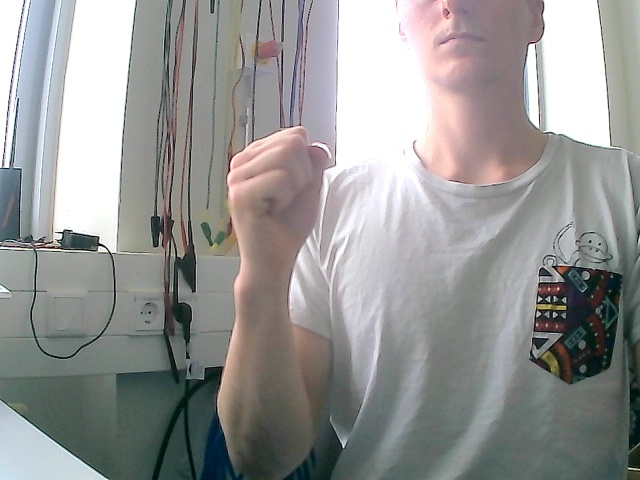no_gesture: (224, 124, 333, 263)
